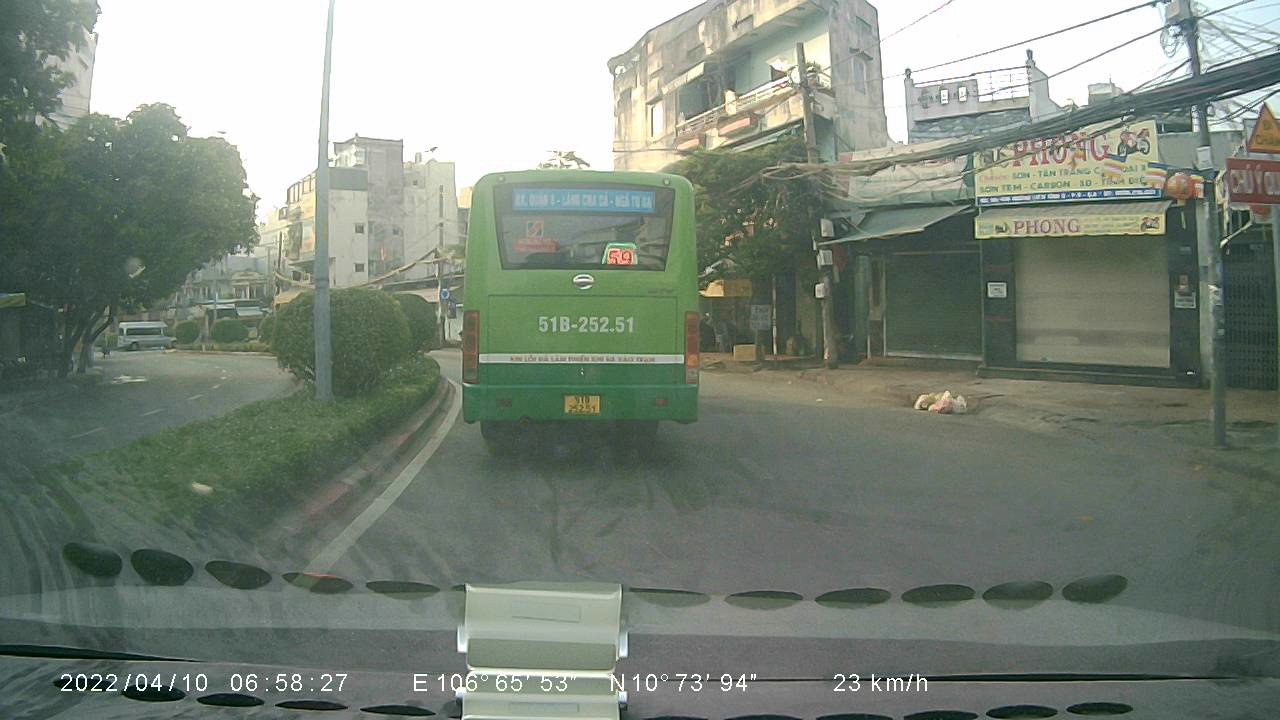Bien khac: (1243, 101, 1280, 154)
